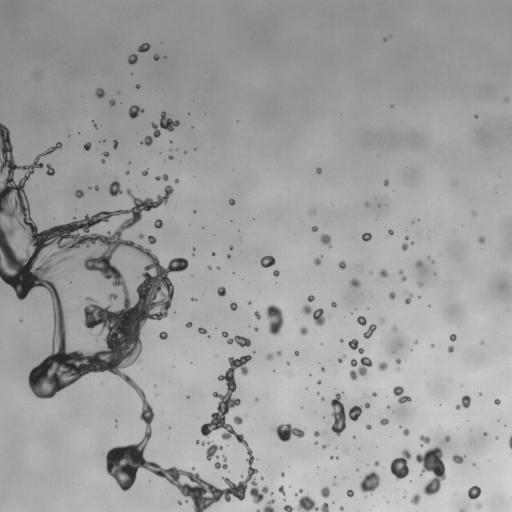droplet: (415, 446, 446, 495), (390, 448, 412, 481), (265, 304, 284, 335), (349, 356, 372, 380), (301, 304, 326, 326), (359, 470, 381, 495), (160, 111, 179, 131), (392, 385, 412, 403), (108, 175, 122, 196), (348, 338, 365, 354), (455, 395, 470, 409), (467, 484, 481, 499), (128, 105, 144, 118), (319, 233, 332, 248), (376, 268, 389, 283), (260, 255, 275, 267), (419, 434, 430, 447), (137, 42, 151, 52), (452, 453, 466, 463), (130, 164, 141, 175), (58, 214, 69, 225), (121, 229, 132, 240), (392, 233, 403, 244), (7, 237, 18, 248), (216, 245, 227, 256), (15, 249, 26, 260), (214, 253, 225, 264), (342, 268, 353, 279), (387, 270, 398, 281), (404, 280, 415, 291), (3, 284, 14, 295), (29, 285, 40, 296), (44, 308, 55, 319), (303, 314, 314, 325), (260, 315, 271, 326), (44, 317, 55, 328), (141, 318, 152, 329), (40, 346, 51, 357), (233, 346, 244, 357), (326, 360, 337, 371), (84, 370, 95, 381), (216, 381, 227, 392), (323, 404, 334, 415), (223, 412, 234, 423), (277, 415, 288, 426), (210, 428, 221, 439), (408, 431, 419, 442), (440, 453, 451, 464), (406, 458, 417, 469), (135, 466, 146, 477), (381, 468, 392, 479), (203, 472, 214, 483), (170, 487, 181, 498), (313, 494, 324, 505), (288, 496, 299, 507), (349, 278, 361, 288), (320, 486, 330, 498), (410, 493, 420, 505), (128, 54, 138, 65), (153, 218, 164, 228), (232, 415, 243, 425), (46, 163, 55, 175), (398, 269, 407, 281), (95, 88, 105, 98), (377, 361, 387, 371), (361, 232, 372, 241), (74, 189, 84, 198), (217, 286, 226, 296), (357, 316, 367, 325), (147, 235, 156, 244), (299, 326, 308, 335), (158, 331, 167, 340), (103, 141, 112, 150), (100, 184, 109, 193), (75, 212, 84, 221), (150, 227, 159, 236), (140, 238, 149, 247), (149, 244, 158, 253), (216, 249, 225, 258), (208, 256, 217, 265), (159, 258, 168, 267), (167, 270, 176, 279), (411, 286, 420, 295), (395, 293, 404, 302), (221, 294, 230, 303), (309, 301, 318, 310), (258, 306, 267, 315), (239, 346, 248, 355), (32, 357, 41, 366), (386, 359, 395, 368), (313, 370, 322, 379), (371, 420, 380, 429), (233, 424, 242, 433), (303, 429, 312, 438), (118, 438, 127, 447), (423, 442, 432, 451), (325, 446, 334, 455), (142, 451, 151, 460), (159, 460, 168, 469), (360, 466, 369, 475), (425, 470, 434, 479), (279, 477, 288, 486), (218, 481, 227, 490), (352, 484, 361, 493), (415, 485, 424, 494), (419, 492, 428, 501), (257, 499, 266, 508), (272, 504, 283, 511), (338, 260, 346, 269), (402, 427, 410, 436), (197, 327, 207, 334), (204, 505, 215, 511), (327, 505, 338, 511), (408, 505, 419, 511), (83, 142, 91, 150), (415, 260, 423, 268), (346, 489, 354, 497), (230, 301, 237, 310), (254, 310, 261, 319), (266, 351, 273, 360), (141, 168, 149, 175), (308, 208, 316, 215), (401, 243, 408, 251), (314, 257, 321, 265), (388, 291, 395, 299), (307, 294, 314, 302), (449, 333, 456, 341), (447, 345, 454, 353), (380, 418, 388, 425), (0, 212, 5, 223), (315, 167, 322, 174), (228, 198, 235, 205), (478, 236, 485, 243), (136, 51, 143, 58), (102, 94, 109, 101), (159, 127, 166, 134), (147, 128, 154, 135), (8, 134, 15, 141), (13, 158, 20, 165), (147, 171, 154, 178), (166, 178, 173, 185), (170, 182, 177, 189), (119, 183, 126, 190), (369, 200, 376, 207), (140, 209, 147, 216), (53, 219, 60, 226), (134, 220, 141, 227), (314, 230, 321, 237), (133, 237, 140, 244), (422, 258, 429, 265), (268, 264, 275, 271), (373, 266, 380, 273), (372, 269, 379, 276), (355, 273, 362, 280), (216, 280, 223, 287), (343, 280, 350, 287), (358, 283, 365, 290), (351, 286, 358, 293), (273, 300, 280, 307), (296, 307, 303, 314), (280, 311, 287, 318), (252, 318, 259, 325), (191, 323, 198, 330), (361, 324, 368, 331), (278, 325, 285, 332), (227, 331, 234, 338), (271, 333, 278, 340), (233, 352, 240, 359), (354, 353, 361, 360), (343, 357, 350, 364), (371, 359, 378, 366), (244, 360, 251, 367), (223, 361, 230, 368), (352, 365, 359, 372), (119, 366, 126, 373), (233, 367, 240, 374), (103, 369, 110, 376), (22, 372, 29, 379), (116, 376, 123, 383), (54, 390, 61, 397), (230, 391, 237, 398), (368, 397, 375, 404), (357, 400, 364, 407), (204, 416, 211, 423), (327, 416, 334, 423), (344, 416, 351, 423), (138, 419, 145, 426), (217, 426, 224, 433), (271, 432, 278, 439), (197, 433, 204, 440), (289, 433, 296, 440), (418, 448, 425, 455), (395, 451, 402, 458), (100, 458, 107, 465), (416, 461, 423, 468), (373, 466, 380, 473), (156, 475, 163, 482), (400, 476, 407, 483), (109, 477, 116, 484), (439, 479, 446, 486), (245, 482, 252, 489), (328, 486, 335, 493), (373, 486, 380, 493), (406, 492, 413, 499), (430, 492, 437, 499), (262, 493, 269, 500), (178, 494, 185, 501), (186, 496, 193, 503), (324, 496, 331, 503), (383, 179, 389, 187), (476, 501, 482, 509), (113, 140, 118, 149), (109, 99, 115, 106), (272, 270, 279, 276), (378, 317, 384, 324), (391, 325, 398, 331), (494, 398, 500, 405), (444, 435, 450, 442), (322, 443, 329, 449), (153, 54, 159, 60), (138, 233, 144, 239), (417, 281, 423, 287), (331, 301, 337, 307), (276, 350, 282, 356), (365, 424, 371, 430), (0, 180, 4, 189), (311, 226, 318, 231), (185, 322, 192, 327), (374, 460, 379, 467), (94, 185, 99, 191), (471, 210, 476, 216), (388, 229, 393, 235), (320, 366, 325, 372), (190, 297, 197, 301), (203, 507, 210, 511), (135, 84, 140, 89), (174, 178, 179, 183), (364, 202, 369, 207), (404, 235, 409, 240), (207, 265, 212, 270), (294, 350, 299, 355), (372, 392, 377, 397), (254, 397, 259, 402), (319, 396, 324, 401), (332, 481, 337, 486), (298, 488, 303, 493), (177, 500, 182, 505), (137, 40, 142, 45), (143, 50, 148, 55), (158, 56, 163, 61), (123, 59, 128, 64), (133, 61, 138, 66), (95, 96, 100, 101), (114, 99, 119, 104), (133, 100, 138, 105), (138, 103, 143, 108), (124, 111, 129, 116), (164, 113, 169, 118), (133, 116, 138, 121), (170, 116, 175, 121), (1, 120, 6, 125), (155, 120, 160, 125), (5, 123, 10, 128), (156, 125, 161, 130), (173, 125, 178, 130), (139, 136, 144, 141), (151, 136, 156, 141), (81, 139, 86, 144), (108, 141, 113, 146), (141, 143, 146, 148), (169, 143, 174, 148), (89, 145, 94, 150), (42, 146, 47, 151), (178, 147, 183, 152), (38, 148, 43, 153), (54, 148, 59, 153), (169, 150, 174, 155), (104, 156, 109, 161), (165, 158, 170, 163), (28, 159, 33, 164), (42, 165, 47, 170), (33, 166, 38, 171), (47, 174, 52, 179), (110, 176, 115, 181), (379, 178, 384, 183), (106, 180, 111, 185), (387, 182, 392, 187), (81, 187, 86, 192), (105, 191, 110, 196), (160, 191, 165, 196), (115, 192, 120, 197), (133, 192, 138, 197), (168, 193, 173, 198), (80, 195, 85, 200), (140, 195, 145, 200), (73, 196, 78, 201), (152, 196, 157, 201), (129, 202, 134, 207), (158, 203, 163, 208), (105, 206, 110, 211), (149, 207, 154, 212), (87, 212, 92, 217), (11, 217, 16, 222), (161, 218, 166, 223), (161, 223, 166, 228), (36, 227, 41, 232), (360, 228, 365, 233), (327, 231, 332, 236), (401, 231, 406, 236), (476, 232, 481, 237), (483, 234, 488, 239), (155, 237, 160, 242), (368, 238, 373, 243), (473, 238, 478, 243), (329, 239, 334, 244), (405, 239, 410, 244), (397, 242, 402, 247), (479, 242, 484, 247), (322, 243, 327, 248), (406, 243, 411, 248), (227, 249, 232, 254), (262, 251, 267, 256), (268, 251, 273, 256), (178, 253, 183, 258), (314, 253, 319, 258), (273, 255, 278, 260), (336, 257, 341, 262), (412, 257, 417, 262), (309, 259, 314, 264), (344, 260, 349, 265), (256, 262, 261, 267), (210, 263, 215, 268), (345, 263, 350, 268), (315, 264, 320, 269), (334, 264, 339, 269), (418, 265, 423, 270), (211, 266, 216, 271), (342, 267, 347, 272), (385, 267, 390, 272), (403, 270, 408, 275), (396, 274, 401, 279), (380, 276, 385, 281), (405, 277, 410, 282), (387, 287, 392, 292), (224, 288, 229, 293), (172, 291, 177, 296), (403, 293, 408, 298), (219, 295, 224, 300), (385, 295, 390, 300), (409, 297, 414, 302), (169, 299, 174, 304), (400, 300, 405, 305), (307, 301, 312, 306), (225, 305, 230, 310), (167, 306, 172, 311), (235, 307, 240, 312), (308, 312, 313, 317), (321, 312, 326, 317), (251, 314, 256, 319), (160, 316, 165, 321), (145, 317, 150, 322), (201, 323, 206, 328), (375, 323, 380, 328), (295, 329, 300, 334), (201, 333, 206, 338), (243, 333, 248, 338), (301, 334, 306, 339), (343, 339, 348, 344), (231, 340, 236, 345), (448, 340, 453, 345), (249, 341, 254, 346), (356, 343, 361, 348), (410, 343, 415, 348), (275, 345, 280, 350), (345, 345, 350, 350), (443, 345, 448, 350), (353, 348, 358, 353), (263, 349, 268, 354), (360, 352, 365, 357), (138, 353, 143, 358), (272, 353, 277, 358), (337, 353, 342, 358), (394, 353, 399, 358), (392, 361, 397, 366), (398, 362, 403, 367), (365, 365, 370, 370), (382, 368, 387, 373), (127, 372, 132, 377), (345, 374, 350, 379), (356, 374, 361, 379), (221, 378, 226, 383), (74, 379, 79, 384), (350, 379, 355, 384), (394, 381, 399, 386), (142, 388, 147, 393), (388, 388, 393, 393), (463, 390, 468, 395), (319, 391, 324, 396), (366, 391, 371, 396), (401, 391, 406, 396), (315, 394, 320, 399), (330, 394, 335, 399), (394, 394, 399, 399), (43, 397, 48, 402), (215, 397, 220, 402), (338, 397, 343, 402), (469, 398, 474, 403), (239, 400, 244, 405), (404, 400, 409, 405), (457, 400, 462, 405), (148, 401, 153, 406), (355, 401, 360, 406), (369, 402, 374, 407), (360, 405, 365, 410), (459, 405, 464, 410), (151, 407, 156, 412), (212, 407, 217, 412), (137, 409, 142, 414), (239, 413, 244, 418), (380, 413, 385, 418), (357, 414, 362, 419), (149, 420, 154, 425), (273, 422, 278, 427), (290, 423, 295, 428), (296, 424, 301, 429), (326, 425, 331, 430), (407, 426, 412, 431), (196, 427, 201, 432), (340, 429, 345, 434), (330, 430, 335, 435), (442, 431, 447, 436), (407, 432, 412, 437), (423, 432, 428, 437), (149, 434, 154, 439), (230, 434, 235, 439), (242, 435, 247, 440), (313, 435, 318, 440), (298, 436, 303, 441), (449, 436, 454, 441), (504, 438, 509, 443), (282, 440, 287, 445), (317, 441, 322, 446), (238, 442, 243, 447), (247, 442, 252, 447), (204, 443, 209, 448), (242, 447, 247, 452), (215, 449, 220, 454), (202, 451, 207, 456), (251, 451, 256, 456), (457, 451, 462, 456), (244, 453, 249, 458), (210, 455, 215, 460), (462, 457, 467, 462), (153, 458, 158, 463), (219, 459, 224, 464), (369, 460, 374, 465), (244, 462, 249, 467), (456, 462, 461, 467), (250, 463, 255, 468), (175, 464, 180, 469), (226, 464, 231, 469), (186, 467, 191, 472), (386, 467, 391, 472), (191, 469, 196, 474), (198, 473, 203, 478), (242, 473, 247, 478), (390, 473, 395, 478), (240, 476, 245, 481), (334, 477, 339, 482), (233, 480, 238, 485), (321, 482, 326, 487), (476, 482, 481, 487), (466, 483, 471, 488), (115, 484, 120, 489), (267, 486, 272, 491), (282, 486, 287, 491), (273, 487, 278, 492), (244, 488, 249, 493), (463, 492, 468, 497), (297, 493, 302, 498), (219, 495, 224, 500), (476, 495, 481, 500), (282, 500, 287, 505), (269, 502, 274, 507), (409, 502, 414, 507), (168, 155, 174, 159), (0, 277, 3, 284), (504, 97, 508, 102), (125, 169, 129, 174), (229, 245, 233, 250), (211, 251, 215, 256), (226, 254, 231, 258), (206, 334, 210, 339), (414, 339, 418, 344), (480, 340, 484, 345), (317, 379, 321, 384), (355, 467, 359, 472), (339, 506, 343, 511), (383, 37, 387, 41), (474, 114, 478, 118), (192, 209, 196, 213), (410, 241, 414, 245), (430, 260, 434, 264), (19, 318, 23, 322), (254, 327, 258, 331), (339, 339, 343, 343), (286, 361, 290, 365), (386, 405, 390, 409), (483, 432, 487, 436), (195, 440, 199, 444), (314, 441, 318, 445), (472, 462, 476, 466), (294, 492, 298, 496), (248, 300, 251, 305), (430, 344, 435, 347), (281, 472, 284, 477), (508, 97, 511, 102), (309, 508, 314, 511), (317, 508, 322, 511), (335, 508, 340, 511), (342, 508, 347, 511), (477, 508, 482, 511), (169, 140, 173, 143), (175, 148, 179, 151), (183, 150, 186, 154), (377, 203, 380, 207), (411, 220, 414, 224), (216, 266, 220, 269), (391, 350, 395, 353), (214, 354, 218, 357), (316, 391, 319, 395), (478, 392, 482, 395), (186, 395, 190, 398), (398, 425, 402, 428), (352, 435, 355, 439), (494, 436, 498, 439), (240, 474, 243, 478), (260, 476, 263, 480), (270, 491, 273, 495), (363, 495, 367, 498), (388, 34, 391, 37), (117, 91, 120, 94), (390, 104, 393, 107), (187, 112, 190, 115), (67, 134, 70, 137), (169, 148, 172, 151), (128, 161, 131, 164), (88, 186, 91, 189), (201, 226, 204, 229), (320, 254, 323, 257), (427, 256, 430, 259), (369, 271, 372, 274), (433, 272, 436, 275), (190, 274, 193, 277), (354, 307, 357, 310), (366, 307, 369, 310), (320, 342, 323, 345), (252, 350, 255, 353), (190, 361, 193, 364), (272, 369, 275, 372), (305, 387, 308, 390), (300, 406, 303, 409), (322, 416, 325, 419), (497, 419, 500, 422), (168, 426, 171, 429), (335, 446, 338, 449), (343, 448, 346, 451), (333, 475, 336, 478), (403, 495, 406, 498), (386, 500, 389, 503), (384, 34, 387, 37), (386, 37, 389, 40), (381, 40, 384, 43), (147, 41, 150, 44), (165, 53, 168, 56), (152, 59, 155, 62), (132, 72, 135, 75), (135, 80, 138, 83), (132, 84, 135, 87), (139, 84, 142, 87), (138, 87, 141, 90), (111, 105, 114, 108), (387, 105, 390, 108), (391, 106, 394, 109), (143, 107, 146, 110), (162, 108, 165, 111), (187, 109, 190, 112), (184, 111, 187, 114), (474, 111, 477, 114), (187, 114, 190, 117), (477, 114, 480, 117), (158, 115, 161, 118), (91, 116, 94, 119), (235, 116, 238, 119), (473, 117, 476, 120), (93, 119, 96, 122), (90, 121, 93, 124), (190, 122, 193, 125), (96, 124, 99, 127), (192, 127, 195, 130), (79, 131, 82, 134), (75, 133, 78, 136), (68, 136, 71, 139), (57, 138, 60, 141), (99, 138, 102, 141), (116, 139, 119, 142), (60, 140, 63, 143), (100, 141, 103, 144), (136, 141, 139, 144), (52, 143, 55, 146), (116, 144, 119, 147), (193, 144, 196, 147), (60, 146, 63, 149), (196, 147, 199, 150), (191, 149, 194, 152), (186, 150, 189, 153), (50, 151, 53, 154), (46, 153, 49, 156), (183, 153, 186, 156), (125, 159, 128, 162), (98, 161, 101, 164), (130, 161, 133, 164), (103, 162, 106, 165), (125, 162, 128, 165), (50, 164, 53, 167), (146, 164, 149, 167), (317, 164, 320, 167), (320, 167, 323, 170), (123, 168, 126, 171), (147, 169, 150, 172), (313, 169, 316, 172), (128, 170, 131, 173), (164, 171, 167, 174), (53, 172, 56, 175), (29, 173, 32, 176), (316, 173, 319, 176), (144, 174, 147, 177), (384, 176, 387, 179), (153, 178, 156, 181), (178, 179, 181, 182), (97, 185, 100, 188), (91, 186, 94, 189), (227, 196, 230, 199), (27, 198, 30, 201), (233, 202, 236, 205), (227, 203, 230, 206), (28, 205, 31, 208), (115, 207, 118, 210), (190, 208, 193, 211), (195, 210, 198, 213), (159, 216, 162, 219), (228, 216, 231, 219), (414, 218, 417, 221), (419, 218, 422, 221), (251, 219, 254, 222), (228, 221, 231, 224), (309, 224, 312, 227), (316, 224, 319, 227), (388, 226, 391, 229), (239, 228, 242, 231), (308, 228, 311, 231), (365, 229, 368, 232), (392, 229, 395, 232), (385, 230, 388, 233), (236, 231, 239, 234), (387, 233, 390, 236), (359, 237, 362, 240), (364, 240, 367, 243), (194, 245, 197, 248), (226, 246, 229, 249), (232, 246, 235, 249), (329, 247, 332, 250), (213, 249, 216, 252), (192, 250, 195, 253), (208, 252, 211, 255), (214, 252, 217, 255), (212, 255, 215, 258), (224, 256, 227, 259), (258, 256, 261, 259), (318, 256, 321, 259), (429, 257, 432, 260), (257, 260, 260, 263), (217, 263, 220, 266), (431, 263, 434, 266), (205, 267, 208, 270), (231, 268, 234, 271), (228, 271, 231, 274), (278, 272, 281, 275), (232, 273, 235, 276), (273, 275, 276, 278), (421, 285, 424, 288), (215, 292, 218, 295), (417, 292, 420, 295), (306, 293, 309, 296), (313, 294, 316, 297), (192, 295, 195, 298), (420, 295, 423, 298), (187, 297, 190, 300), (231, 299, 234, 302), (192, 300, 195, 303), (244, 301, 247, 304), (335, 301, 338, 304), (426, 301, 429, 304), (250, 302, 253, 305), (406, 303, 409, 306), (430, 303, 433, 306), (236, 304, 239, 307), (335, 304, 338, 307), (426, 306, 429, 309), (350, 308, 353, 311), (360, 313, 363, 316), (355, 314, 358, 317), (357, 323, 360, 326), (183, 325, 186, 328), (162, 328, 165, 331), (221, 328, 224, 331), (372, 330, 375, 333), (156, 331, 159, 334), (166, 331, 169, 334), (206, 331, 209, 334), (218, 332, 221, 335), (238, 333, 241, 336), (447, 333, 450, 336), (455, 333, 458, 336), (156, 335, 159, 338), (166, 335, 169, 338), (225, 336, 228, 339), (337, 336, 340, 339), (455, 336, 458, 339), (159, 338, 162, 341), (348, 338, 351, 341), (411, 339, 414, 342), (417, 339, 420, 342), (483, 339, 486, 342), (430, 340, 433, 343), (316, 341, 319, 344), (427, 343, 430, 346), (243, 345, 246, 348), (428, 346, 431, 349), (432, 346, 435, 349), (295, 347, 298, 350), (407, 349, 410, 352), (291, 351, 294, 354), (298, 351, 301, 354), (295, 355, 298, 358), (187, 359, 190, 362), (288, 359, 291, 362), (400, 359, 403, 362), (335, 360, 338, 363), (283, 362, 286, 365), (188, 363, 191, 366), (317, 366, 320, 369), (324, 367, 327, 370), (269, 368, 272, 371), (274, 368, 277, 371), (310, 371, 313, 374), (214, 375, 217, 378), (307, 375, 310, 378), (314, 379, 317, 382), (320, 379, 323, 382), (315, 383, 318, 386), (318, 383, 321, 386), (155, 385, 158, 388), (371, 389, 374, 392), (479, 389, 482, 392), (313, 391, 316, 394), (186, 392, 189, 395), (339, 392, 342, 395), (481, 392, 484, 395), (252, 395, 255, 398), (256, 395, 259, 398), (497, 396, 500, 399), (184, 397, 187, 400), (188, 397, 191, 400), (366, 399, 369, 402), (491, 399, 494, 402), (499, 399, 502, 402), (252, 400, 255, 403), (256, 400, 259, 403), (438, 400, 441, 403), (493, 403, 496, 406), (497, 403, 500, 406), (297, 404, 300, 407), (383, 404, 386, 407), (437, 405, 440, 408), (452, 405, 455, 408), (388, 407, 391, 410), (386, 416, 389, 419), (116, 417, 119, 420), (319, 417, 322, 420), (113, 421, 116, 424), (385, 423, 388, 426), (500, 423, 503, 426), (165, 424, 168, 427), (170, 424, 173, 427), (395, 425, 398, 428), (505, 425, 508, 428), (363, 426, 366, 429), (165, 427, 168, 430), (400, 427, 403, 430), (311, 429, 314, 432), (484, 429, 487, 432), (480, 431, 483, 434), (494, 432, 497, 435), (355, 435, 358, 438), (483, 435, 486, 438), (352, 438, 355, 441), (494, 439, 497, 442), (192, 440, 195, 443), (198, 440, 201, 443), (246, 440, 249, 443), (420, 440, 423, 443), (311, 442, 314, 445), (337, 454, 340, 457), (326, 456, 329, 459), (332, 456, 335, 459), (204, 458, 207, 461), (471, 459, 474, 462), (313, 465, 316, 468), (356, 465, 359, 468), (473, 465, 476, 468), (352, 467, 355, 470), (282, 469, 285, 472), (277, 472, 280, 475), (283, 472, 286, 475), (332, 472, 335, 475), (342, 473, 345, 476), (330, 475, 333, 478), (263, 476, 266, 479), (277, 484, 280, 487), (343, 490, 346, 493), (344, 493, 347, 496), (399, 494, 402, 497), (351, 495, 354, 498), (383, 498, 386, 501), (175, 502, 178, 505), (163, 56, 167, 58), (193, 148, 197, 150), (154, 394, 158, 396), (130, 73, 133, 75), (77, 132, 80, 134), (417, 218, 419, 221), (230, 220, 233, 222), (232, 272, 235, 274), (417, 296, 420, 298), (428, 304, 430, 307), (215, 326, 217, 329), (309, 373, 311, 376), (100, 382, 103, 384), (154, 384, 156, 387), (438, 404, 441, 406), (470, 428, 472, 431), (366, 464, 369, 466), (382, 466, 384, 469), (148, 480, 150, 483), (409, 480, 412, 482), (332, 501, 334, 504), (253, 509, 256, 511), (236, 120, 238, 122), (191, 126, 193, 128), (159, 152, 161, 154), (69, 281, 71, 283), (410, 349, 412, 351), (172, 365, 174, 367), (461, 384, 463, 386), (504, 424, 506, 426), (358, 447, 360, 449), (289, 485, 291, 487), (238, 229, 239, 231), (174, 311, 175, 313), (351, 312, 352, 314), (227, 444, 228, 446), (228, 471, 230, 472)
ligament: (283, 492, 329, 511), (271, 424, 304, 441), (140, 121, 161, 146), (221, 330, 251, 347), (363, 324, 377, 338), (278, 485, 286, 501), (405, 290, 413, 304), (313, 429, 327, 436), (155, 174, 168, 181), (394, 358, 401, 371), (337, 354, 346, 363), (91, 120, 97, 129), (508, 434, 511, 449), (329, 455, 338, 459), (192, 246, 195, 256), (114, 419, 117, 428), (98, 139, 106, 142), (342, 476, 346, 479), (459, 509, 465, 511), (247, 325, 251, 327), (313, 411, 316, 413)
